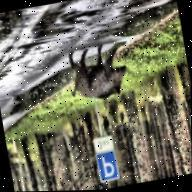boar: (58, 29, 150, 132)
